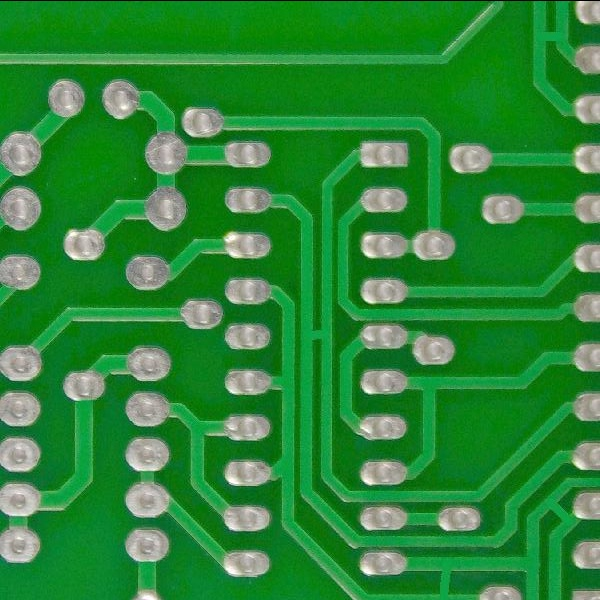short: (424, 553, 468, 599), (541, 490, 582, 538), (528, 22, 575, 53), (296, 320, 334, 352)
